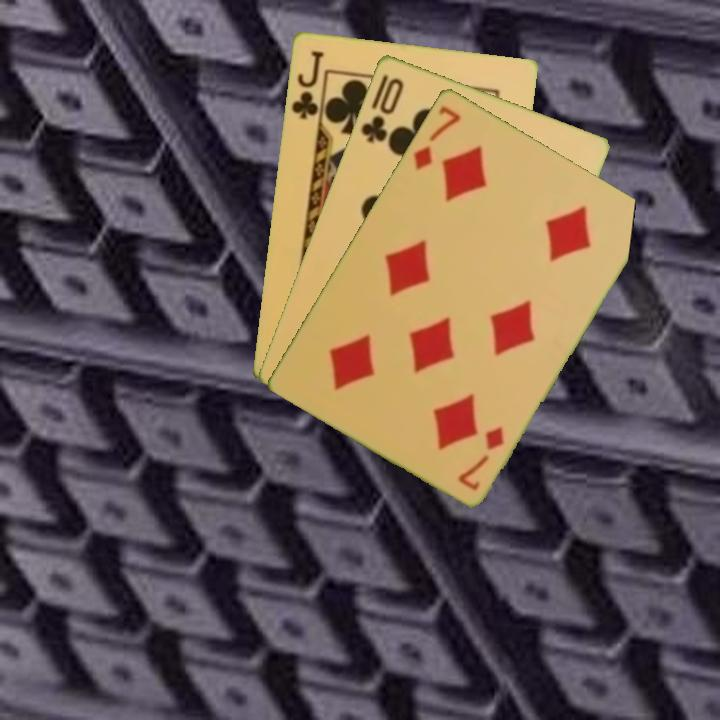10c: (357, 74, 407, 146)
7d: (409, 101, 464, 173), (454, 421, 507, 493)
Jc: (287, 46, 327, 122)
